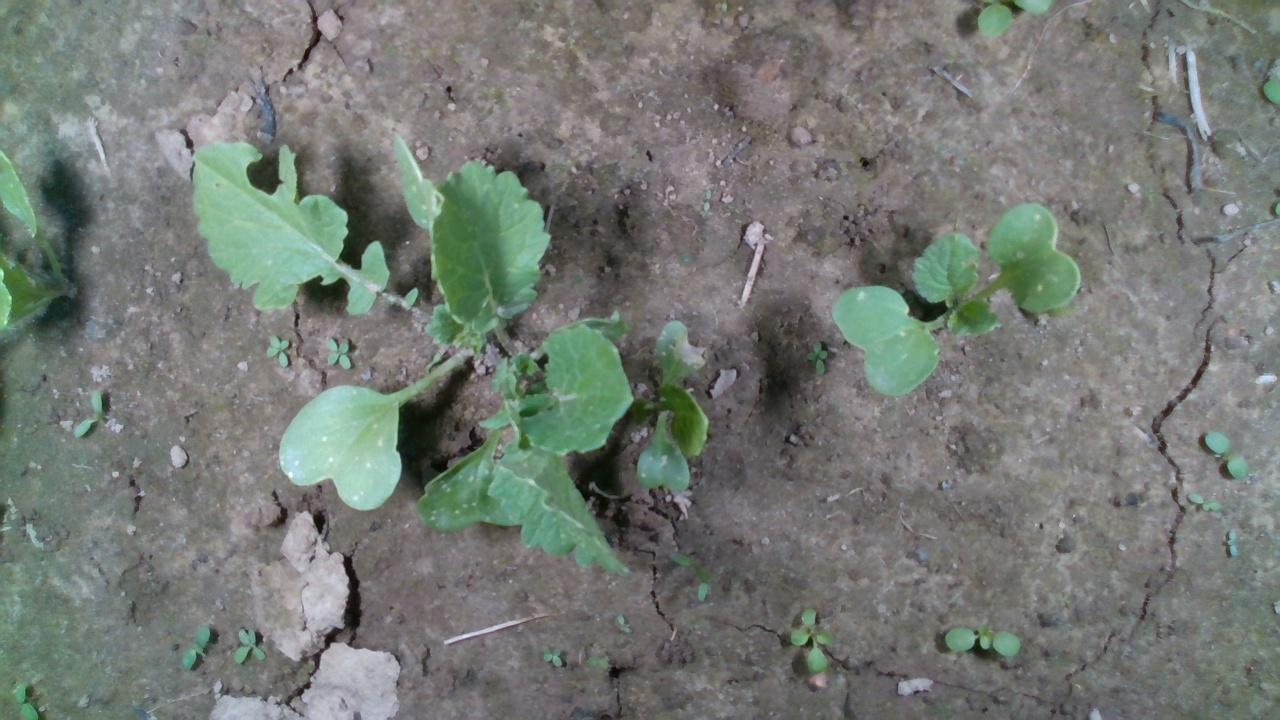weed: (786, 604, 835, 675), (942, 621, 1022, 658), (1202, 427, 1250, 479), (70, 384, 105, 440), (179, 624, 211, 670), (232, 624, 265, 664), (322, 334, 353, 371), (261, 332, 291, 368), (804, 337, 829, 376), (1184, 490, 1224, 511), (537, 641, 563, 669), (1222, 526, 1240, 558)
